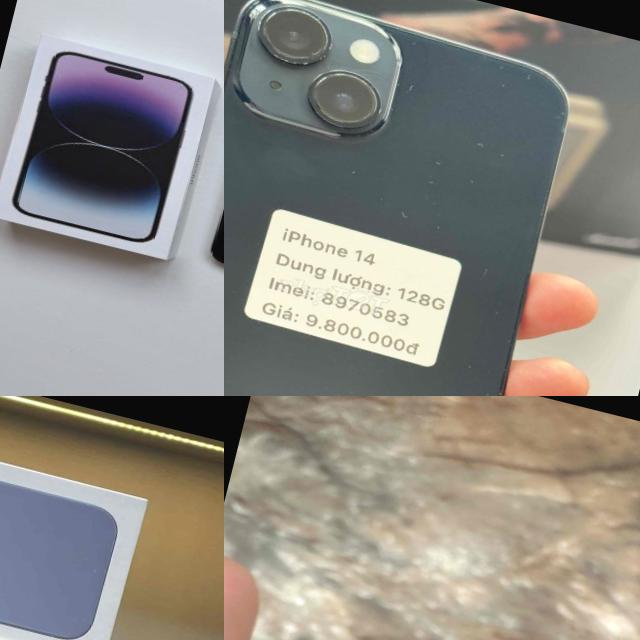scratch: (294, 61, 396, 170), (238, 0, 353, 77), (382, 207, 452, 237), (546, 105, 586, 152), (415, 150, 451, 199), (469, 134, 515, 167), (468, 259, 498, 298), (517, 70, 542, 96), (404, 76, 424, 105), (464, 171, 488, 192), (497, 84, 518, 106)
